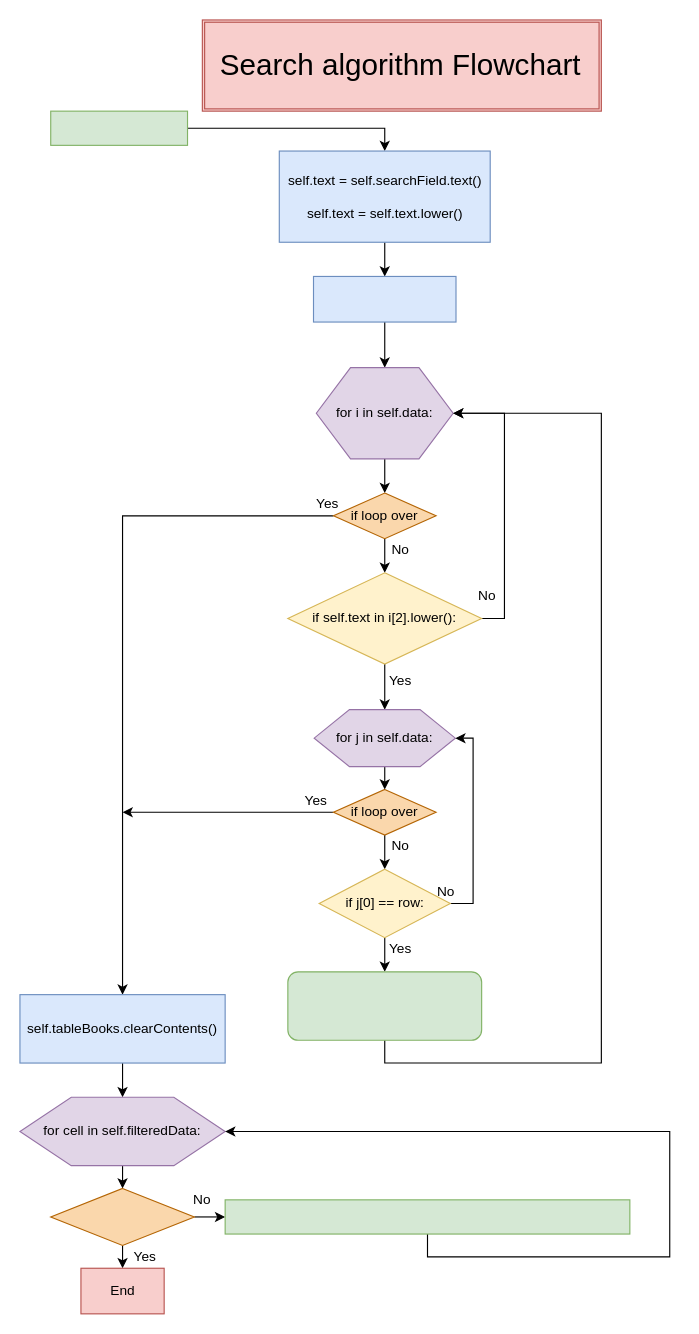
This 699x1334 diagram has some shape labels left out. Each missing label, with the centre of its shape:
"if loop is over" belongs at pixel 122 1216.
"self.filteredData = []" belongs at pixel 384 298.
"self.filteredData.append(j)" belongs at pixel 384 1005.
"self.tableBooks.setItem(cell[0], cell[1], QTableWidgetItem(cell[2]))" belongs at pixel 427 1216.
"Start" belongs at pixel 119 127.
